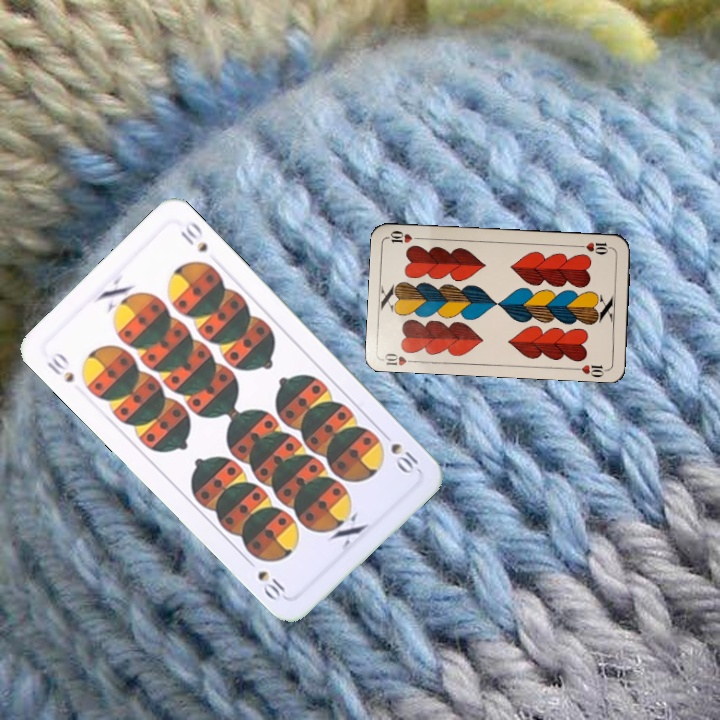H10: (574, 238, 614, 257), (380, 349, 420, 368)
S10: (386, 439, 422, 477), (42, 348, 77, 386)
